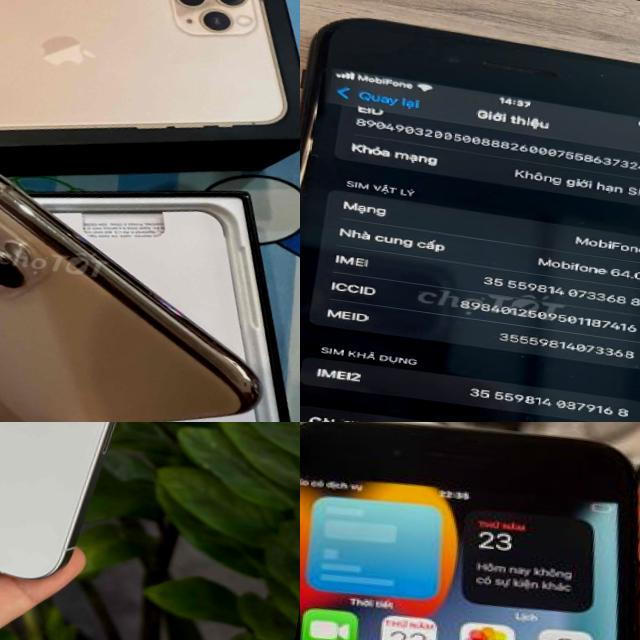gen_11: (0, 133, 293, 422)
gen_15: (0, 422, 189, 597)
gen_7_8: (300, 4, 640, 422), (300, 422, 640, 640)
